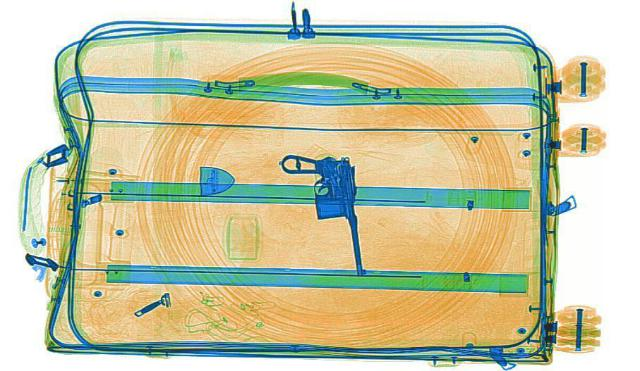Gun: (277, 150, 367, 275)
